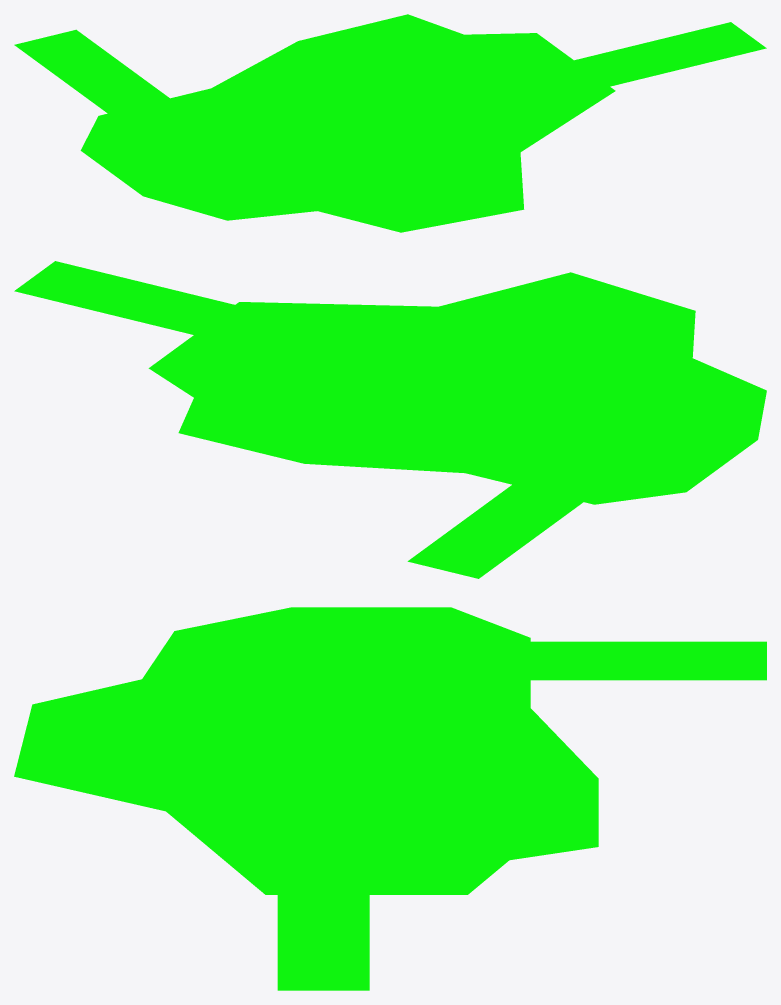
The model's file is s05b_lb3-floor.glb.
3 renders of one model, top to bottom at view 1: azimuth 30°, elevation 25°; view 2: azimuth 150°, elevation 25°; view 3: azimuth 270°, elevation 25°, orthographic. The views are drawn at different scales.
Visible parts, largest first — view 1: collision_floor-colonly; view 2: collision_floor-colonly; view 3: collision_floor-colonly.
Boxes of the visible parts, x1,y1,x2,y2 form: collision_floor-colonly: [14, 14, 766, 232]; collision_floor-colonly: [14, 261, 766, 578]; collision_floor-colonly: [14, 607, 766, 990].
Bounding box in the file's own units: 59.53 × 0.1016 × 49.23.
